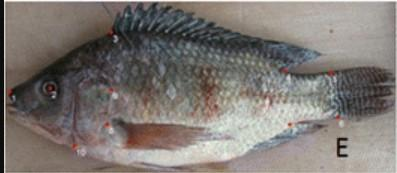Tilapia: (4, 3, 393, 172)
